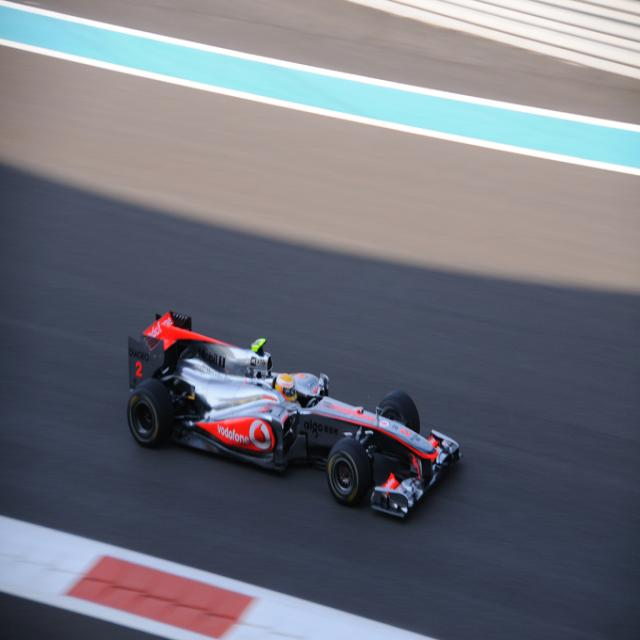car: (127, 328, 462, 508)
